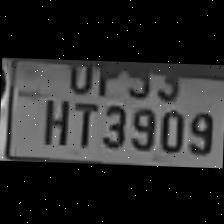0: (154, 103, 184, 151)
3: (96, 97, 128, 150), (152, 61, 182, 100)
5: (122, 61, 154, 98)
9: (183, 105, 216, 156), (125, 100, 156, 150)
H: (38, 92, 70, 144)
P: (91, 60, 123, 94)
T: (68, 96, 97, 148)
U: (61, 59, 94, 91)
